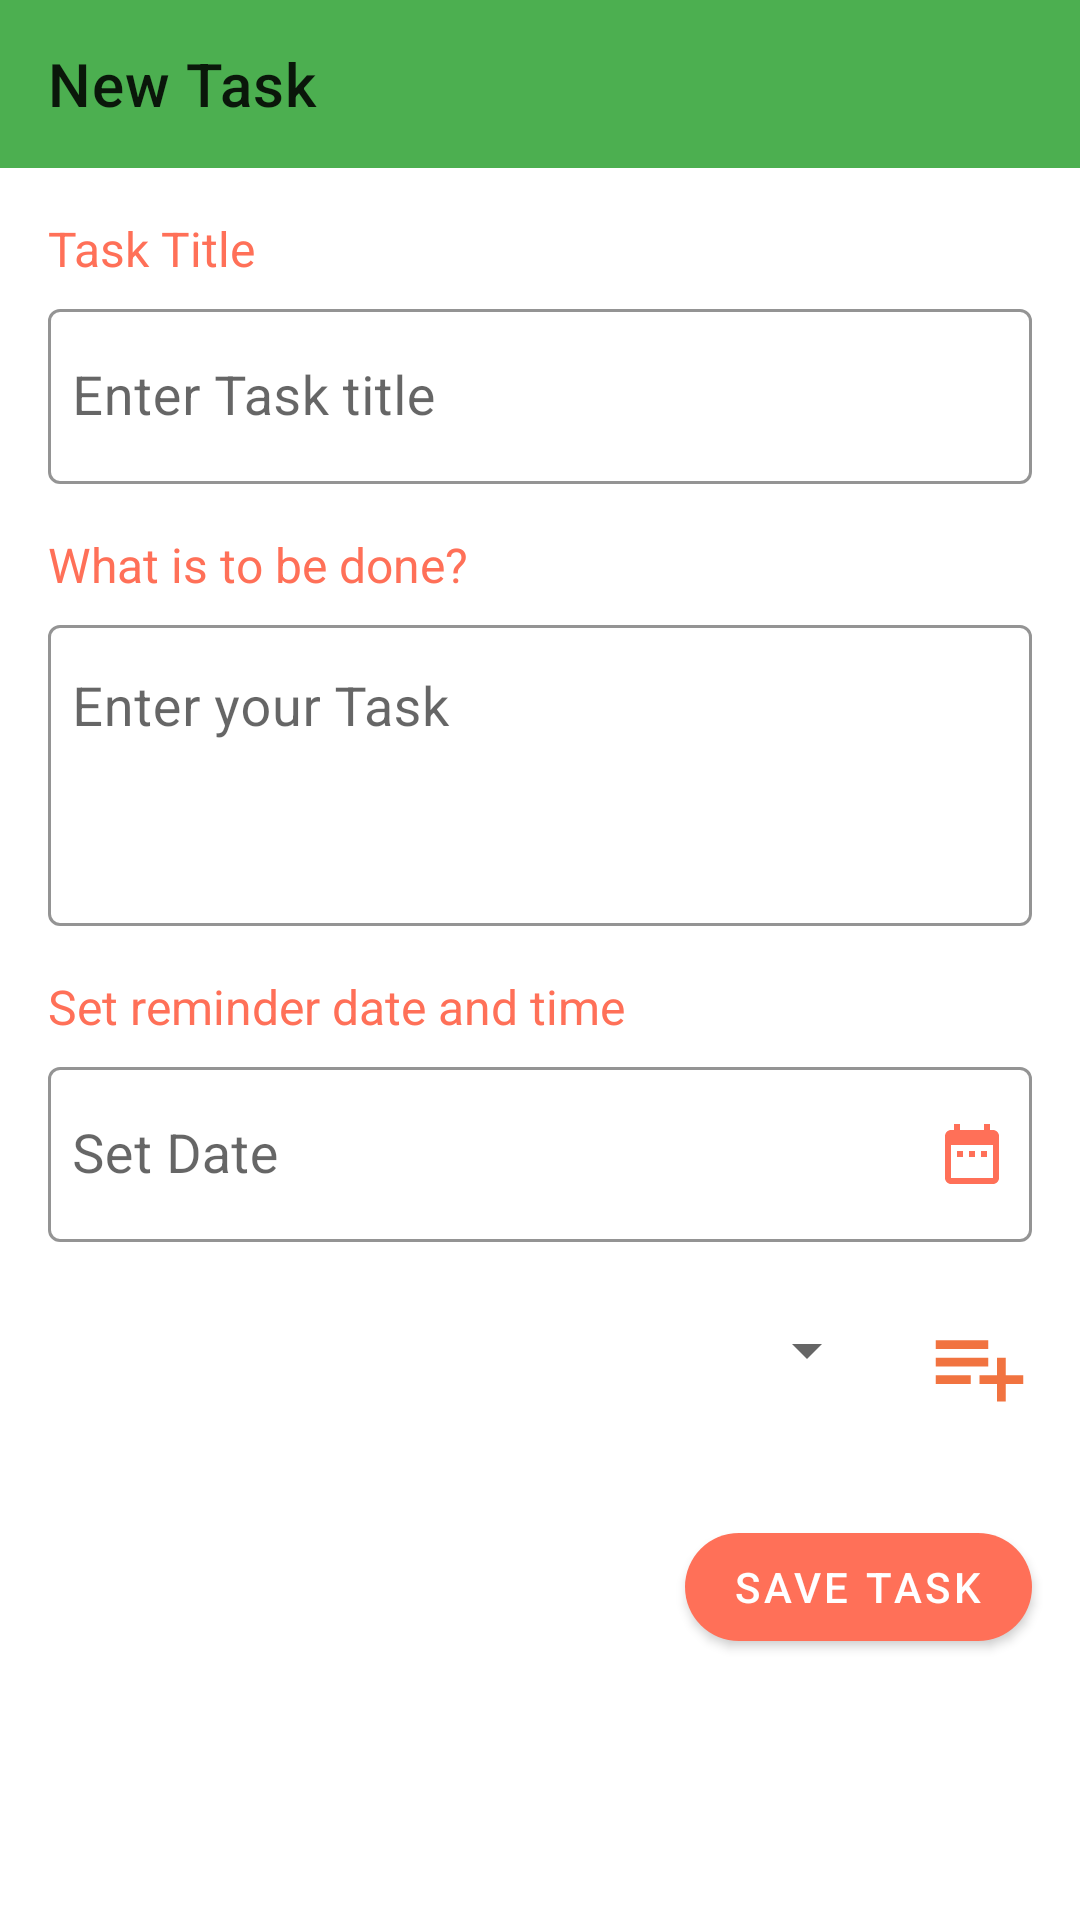

Named icons in this screenshot (1080px×1920px) and their centers, (x,y):
playlist: (979,1371)
